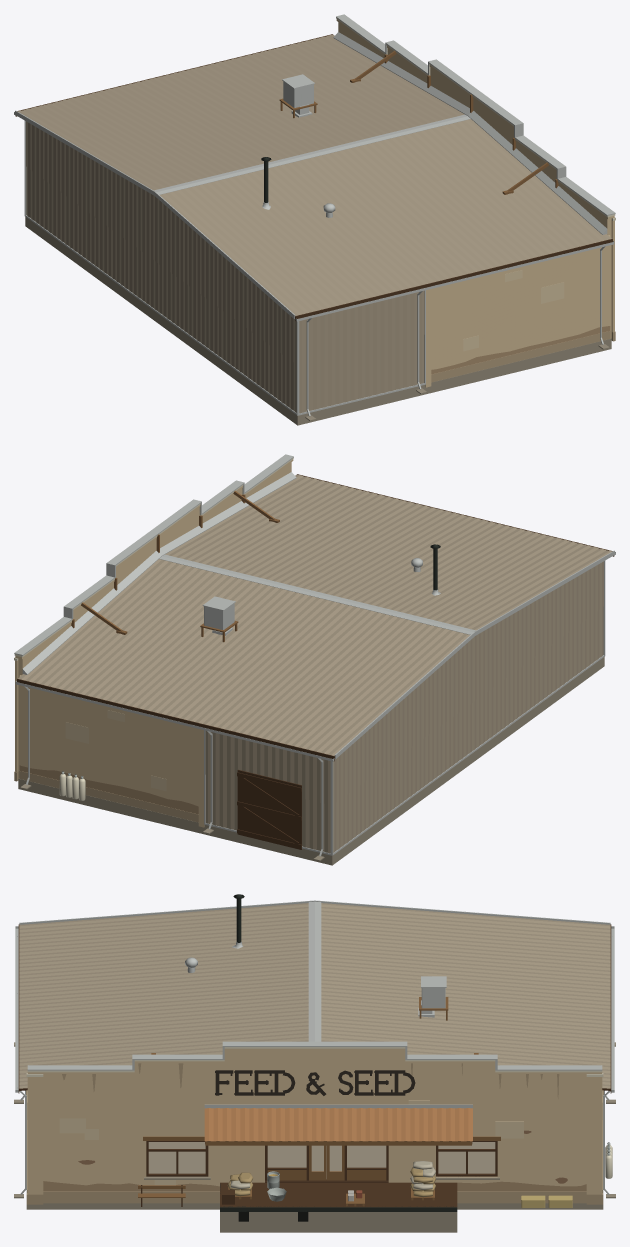
Rendered from SM_Town_Feed_Shell_LOD2.fbx.
3 renders of one model, top to bottom at view 1: azimuth 30°, elevation 25°; view 2: azimuth 150°, elevation 25°; view 3: azimuth 270°, elevation 25°, orthographic. The views are drawn at different scales.
Parts seen in each view (by area): view 1: SM_Town_Feed_Shell_LOD2; view 2: SM_Town_Feed_Shell_LOD2; view 3: SM_Town_Feed_Shell_LOD2.
Boxes of the visible parts, bbox=[...] form: SM_Town_Feed_Shell_LOD2: bbox=[14, 14, 615, 425]; SM_Town_Feed_Shell_LOD2: bbox=[14, 454, 615, 865]; SM_Town_Feed_Shell_LOD2: bbox=[14, 894, 615, 1232].
Size of the model in its own units: 19.1 by 25.36 by 8.77.
